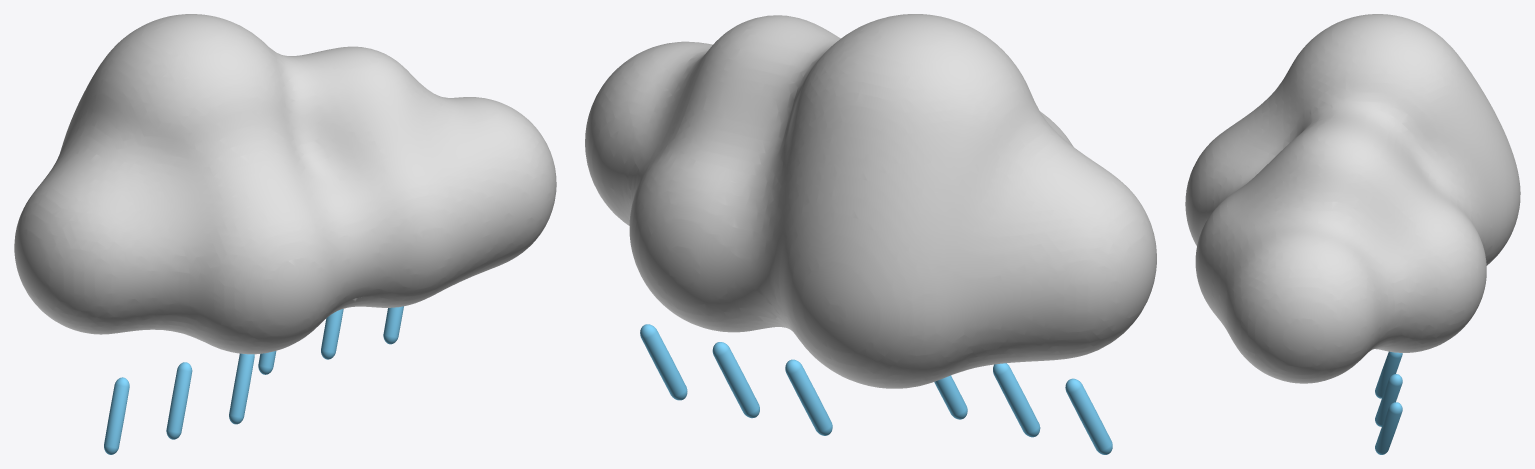
Rendered from showerRain.glb.
3 renders of one model, left to right at view 1: azimuth 30°, elevation 25°; view 2: azimuth 150°, elevation 25°; view 3: azimuth 270°, elevation 25°, orthographic. The views are drawn at different scales.
Visible parts, largest first — view 1: Sphere.003; view 2: Sphere.003; view 3: Sphere.003.
Part boxes in pixels (x1,y1,x2,y2): Sphere.003: [14, 14, 556, 454]; Sphere.003: [585, 14, 1156, 454]; Sphere.003: [1185, 14, 1520, 454].
Size of the model in its own units: 5.66 by 4.05 by 3.61.
